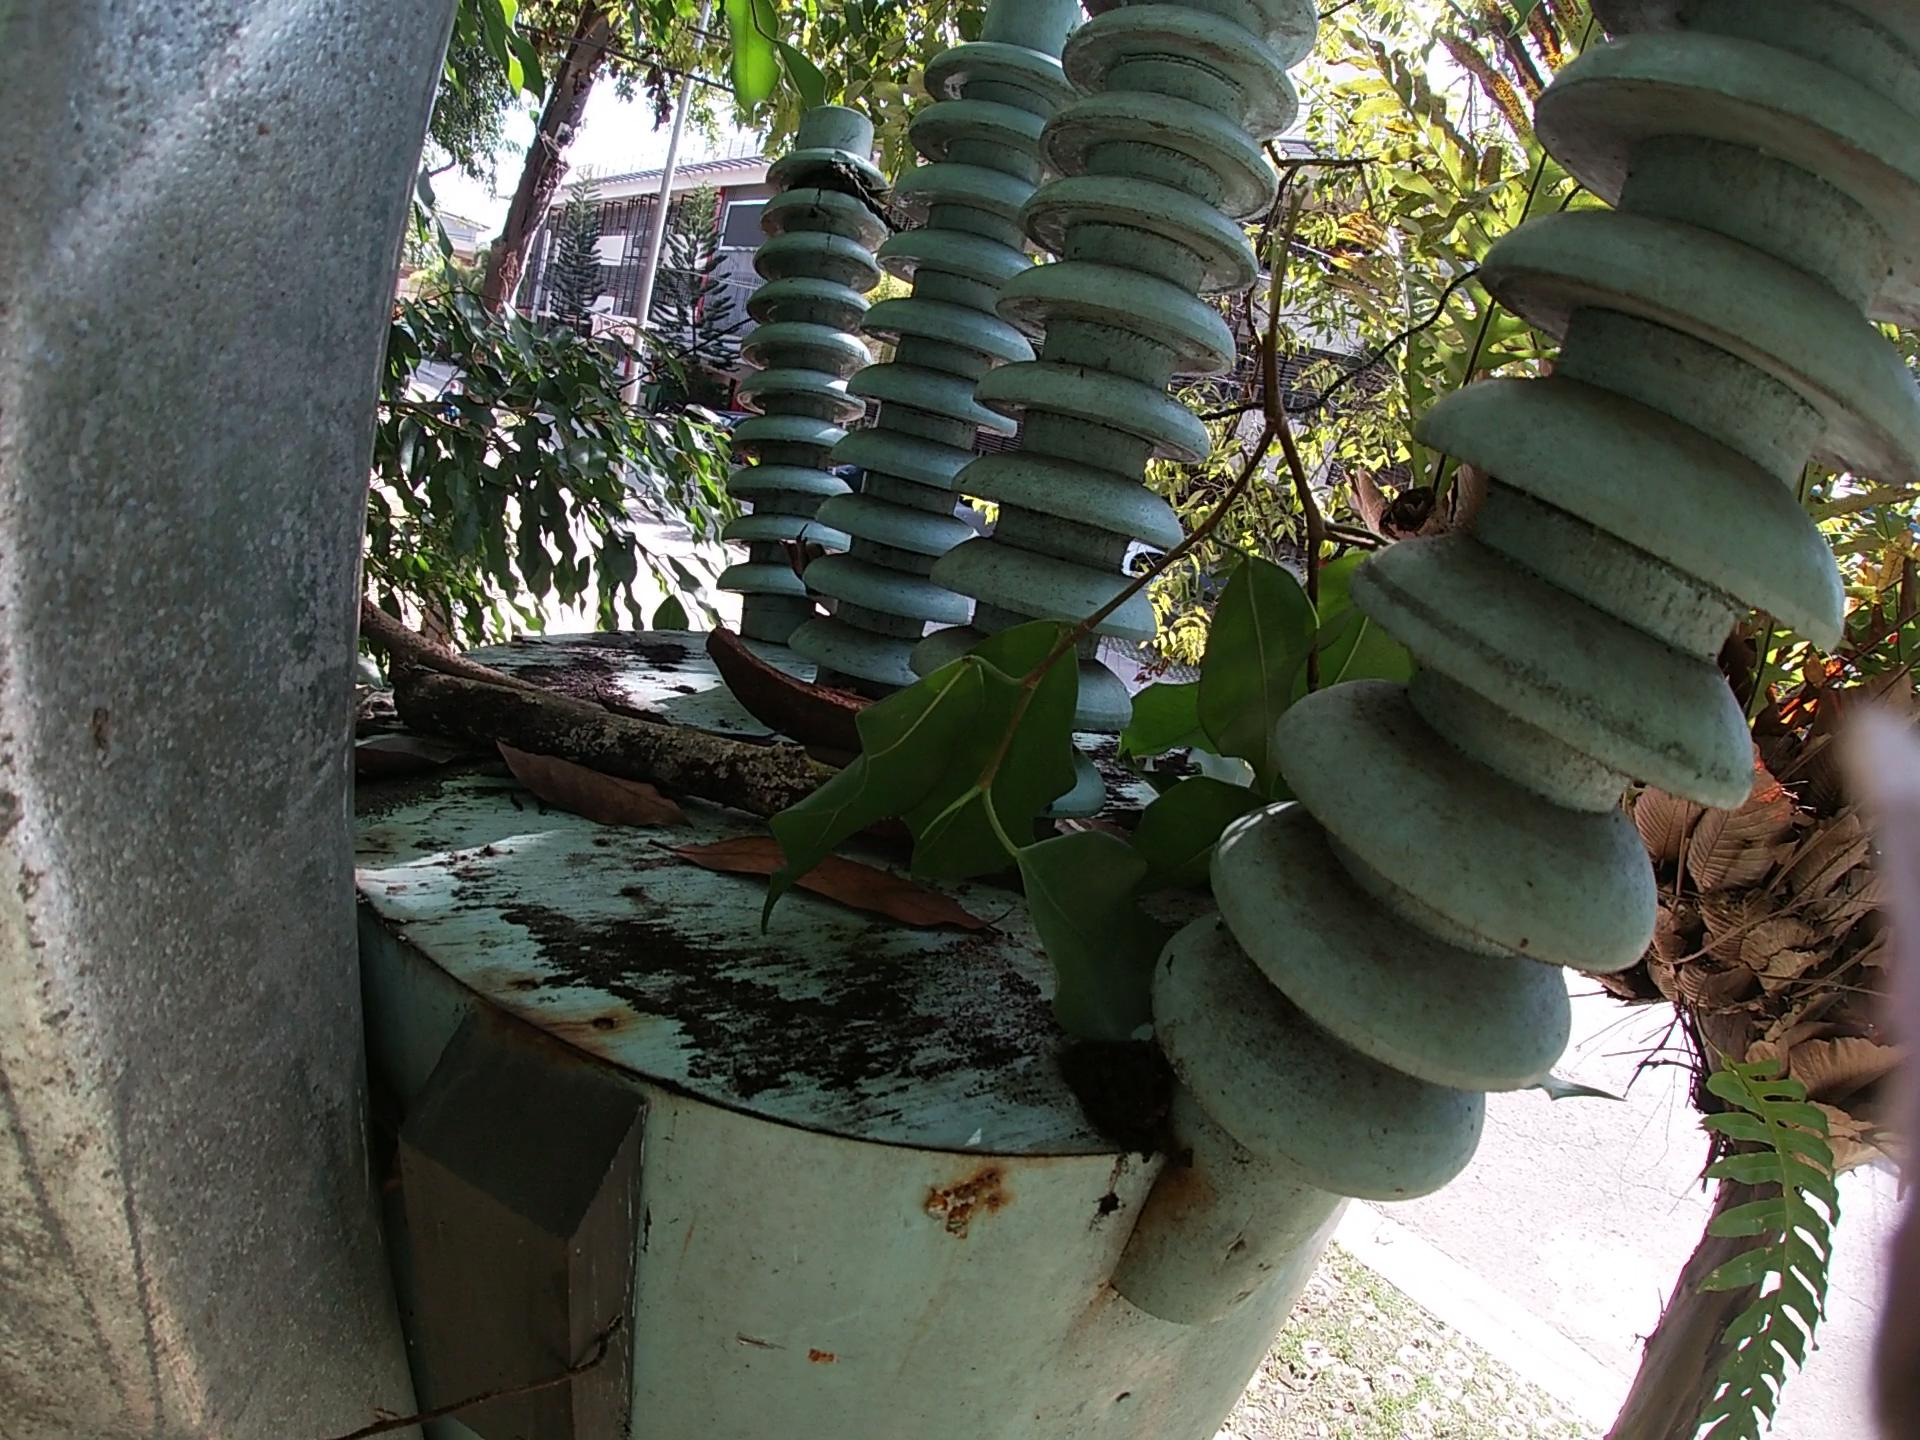branch with leaves: (807, 166, 1429, 1209)
leaf: (677, 836, 990, 945), (481, 743, 677, 843), (343, 731, 451, 805), (1507, 1071, 1637, 1113)
mahogany fruit: (697, 625, 863, 756)
tree branch: (393, 656, 844, 803), (352, 597, 528, 681)
